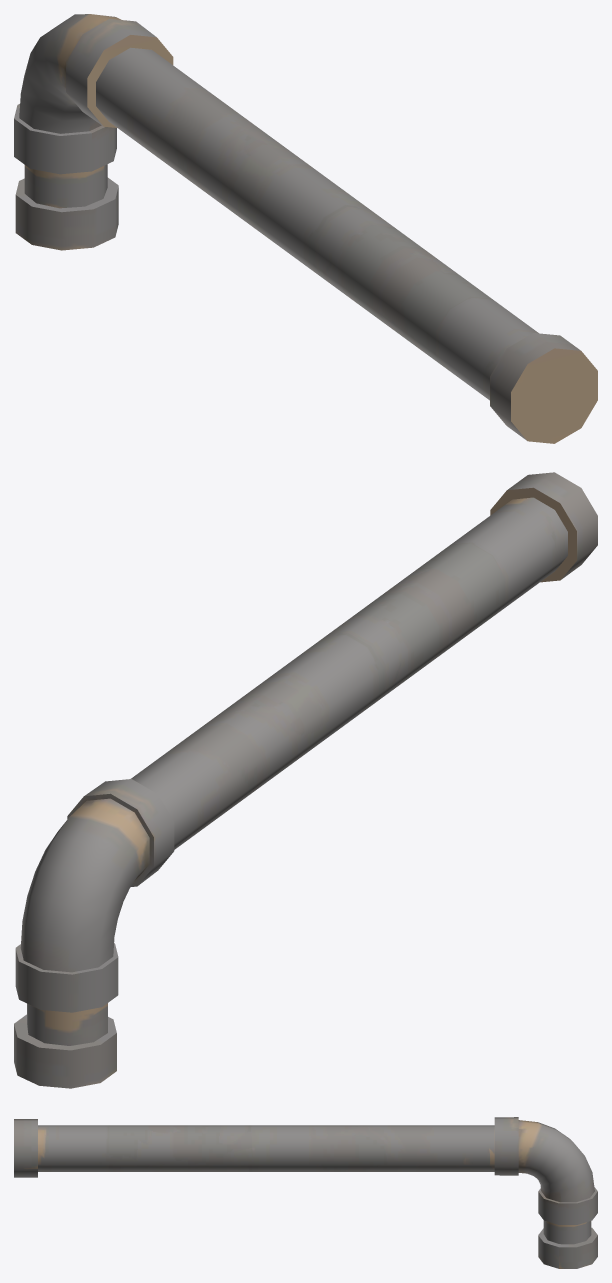
File: props_mining_ceiling_pipe02_thick.glb
3 views of the same model, one above another, from view 1: azimuth 30°, elevation 25°; view 2: azimuth 150°, elevation 25°; view 3: azimuth 270°, elevation 25° (orthographic). The views are drawn at different scales.
Visible parts, largest first — view 1: models/props_mining/ceiling_pipe02_thick; view 2: models/props_mining/ceiling_pipe02_thick; view 3: models/props_mining/ceiling_pipe02_thick.
Boxes of the visible parts, <box> form: models/props_mining/ceiling_pipe02_thick: <box>14,14,597,443</box>; models/props_mining/ceiling_pipe02_thick: <box>14,472,597,1088</box>; models/props_mining/ceiling_pipe02_thick: <box>14,1117,597,1268</box>.
Bounding box in the file's own units: 9.69 × 25.31 × 97.72.
Materials: 1 (1 with a texture image).
